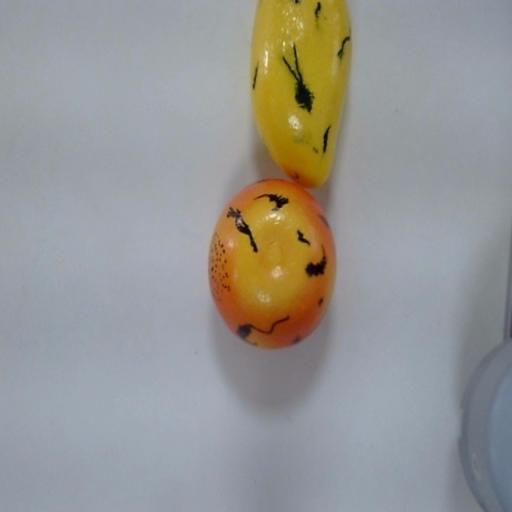Defective: (206, 173, 340, 359), (247, 2, 359, 194)
